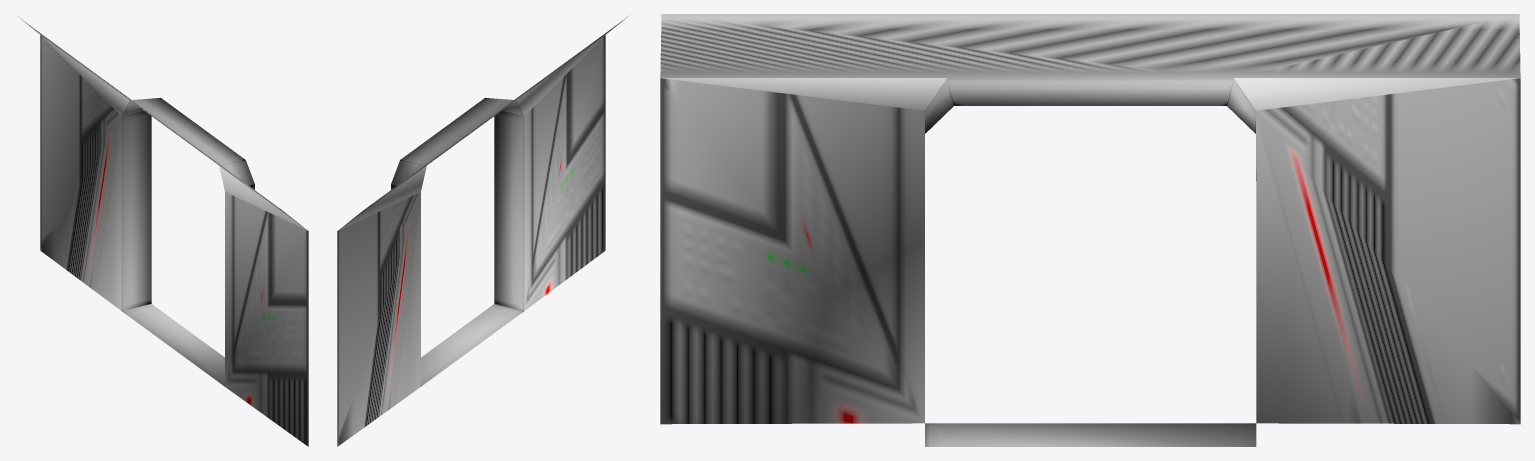
The model's file is CC_roomDoor.fbx.
3 views of the same model, side by side, from view 1: azimuth 30°, elevation 25°; view 2: azimuth 150°, elevation 25°; view 3: azimuth 270°, elevation 25° (orthographic). The views are drawn at different scales.
Parts seen in each view (by area): view 1: Cube_126; view 2: Cube_126; view 3: Cube_126.
Part boxes in pixels (box(x1,y1,x2,y2)): Cube_126: box(16, 15, 308, 446); Cube_126: box(337, 15, 629, 446); Cube_126: box(660, 14, 1520, 446).
Size of the model in its own units: 1.9 by 8 by 16.
